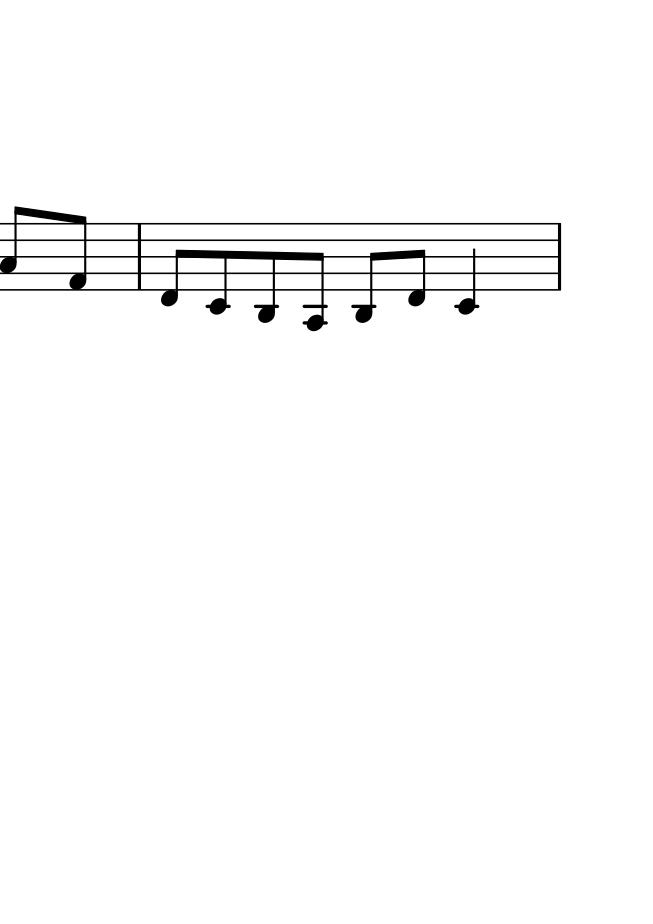4_-2: (455, 221, 480, 315)
8_-1: (158, 221, 188, 308), (405, 221, 430, 308)
8_-2: (205, 222, 232, 315)
8_-3: (351, 220, 381, 323), (255, 221, 282, 324)
8_-4: (302, 220, 329, 332)
8_1: (69, 213, 90, 293)
8_3: (1, 206, 29, 293)
Single_barline: (128, 223, 150, 291), (550, 223, 568, 292)
